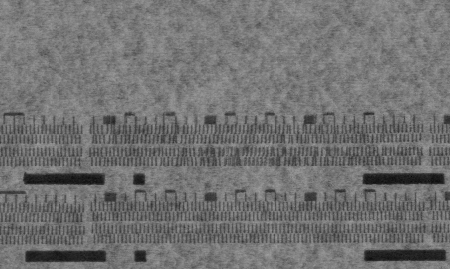Oblique printing: (91, 121, 423, 172)
